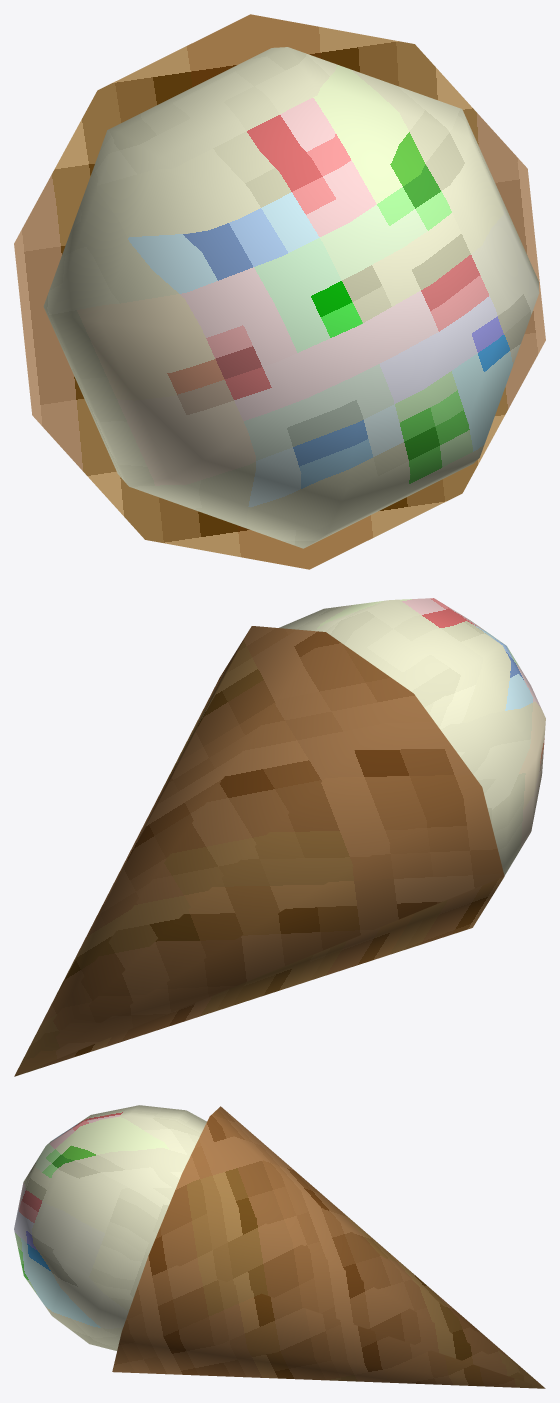
Rendered from icecream01.dae.
3 views of the same model, one above another, from view 1: azimuth 30°, elevation 25°; view 2: azimuth 150°, elevation 25°; view 3: azimuth 270°, elevation 25° (orthographic). The views are drawn at different scales.
Parts seen in each view (by area): view 1: icecream01; view 2: icecream01; view 3: icecream01.
Part boxes in pixels (x1,y1,x2,y2): icecream01: (14, 14, 545, 569); icecream01: (14, 598, 545, 1076); icecream01: (14, 1105, 545, 1388).
Size of the model in its own units: 6.22 by 6.3 by 12.08.
Materials: 1 (1 with a texture image).
